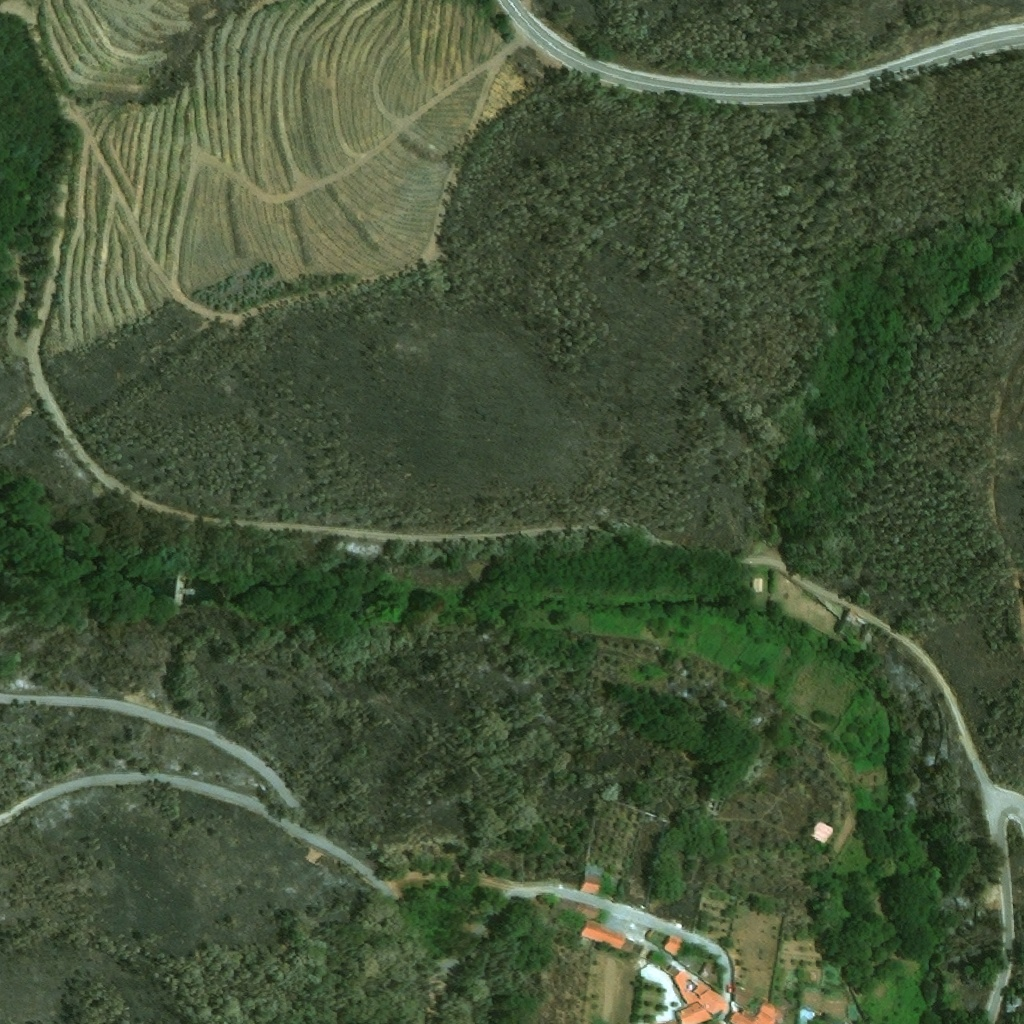0 no-damage: (676, 986, 731, 1023), (578, 920, 628, 955), (674, 969, 711, 1009), (726, 1000, 790, 1023), (578, 864, 619, 899), (805, 819, 836, 847), (172, 574, 194, 610), (732, 986, 758, 1010), (661, 933, 684, 957), (574, 902, 602, 921), (553, 897, 576, 912), (645, 927, 663, 944), (751, 579, 763, 593)
